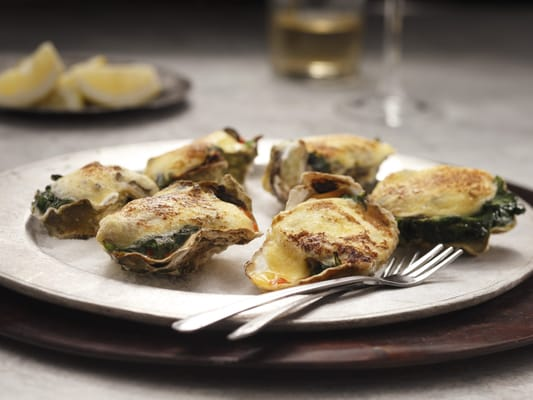burger: (167, 240, 462, 341)
pizza: (264, 0, 368, 81)
soup: (97, 178, 261, 277), (364, 160, 526, 255), (144, 128, 261, 188)
